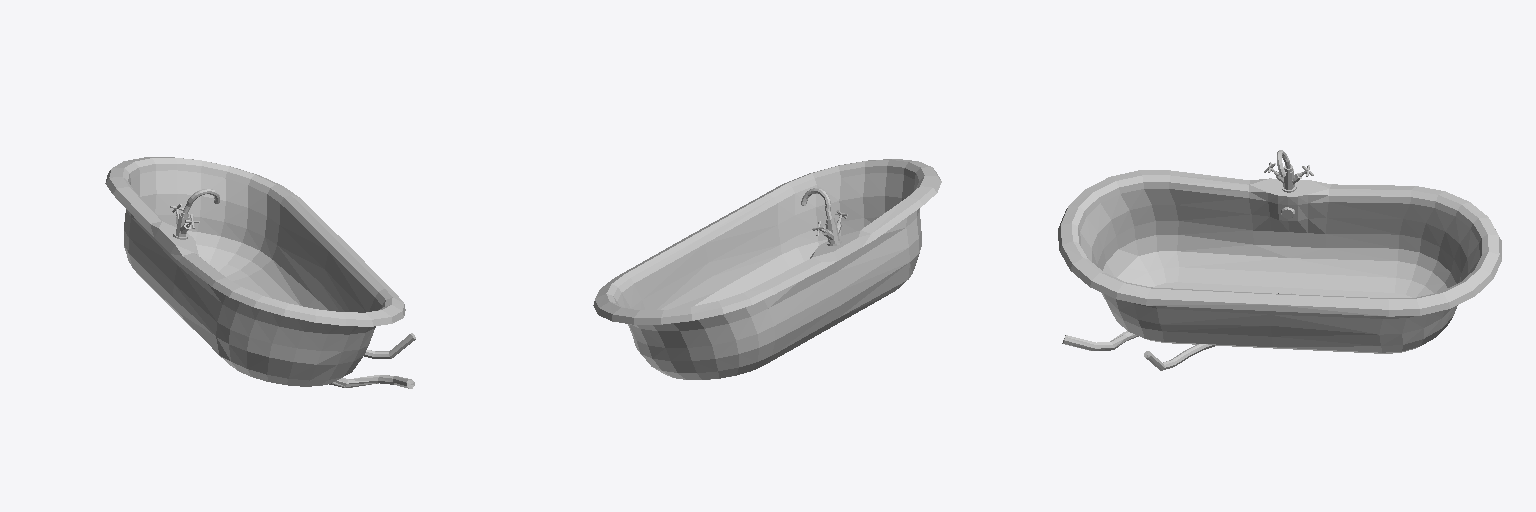
The model's file is Bathtub.obj.
The picture shows the model from 3 angles: view 1: azimuth 30°, elevation 25°; view 2: azimuth 150°, elevation 25°; view 3: azimuth 270°, elevation 25°; orthographic projection.
Visible parts, largest first — view 1: Mesh_0424; view 2: Mesh_0424; view 3: Mesh_0424.
Part boxes in pixels (left/top/right/bottom): Mesh_0424: left=105, top=157, right=415, bottom=388; Mesh_0424: left=593, top=159, right=941, bottom=379; Mesh_0424: left=1058, top=150, right=1501, bottom=370.
Size of the model in its own units: 4566 by 3475 by 8817.